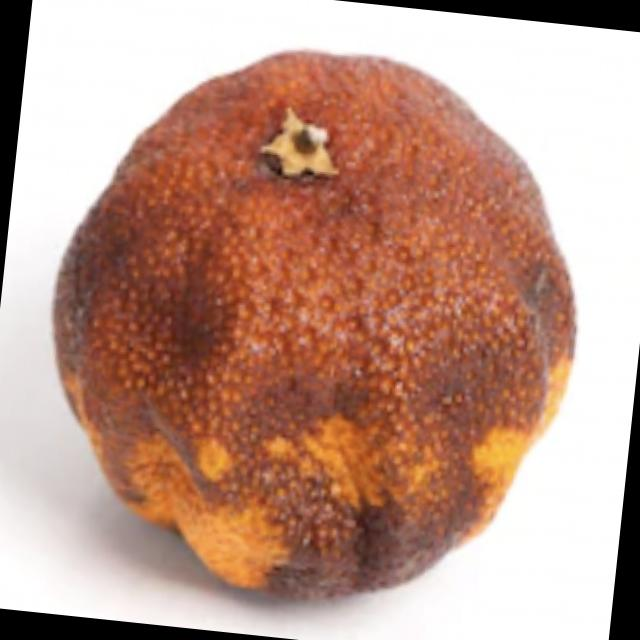rotten-orange: (22, 18, 606, 628)
